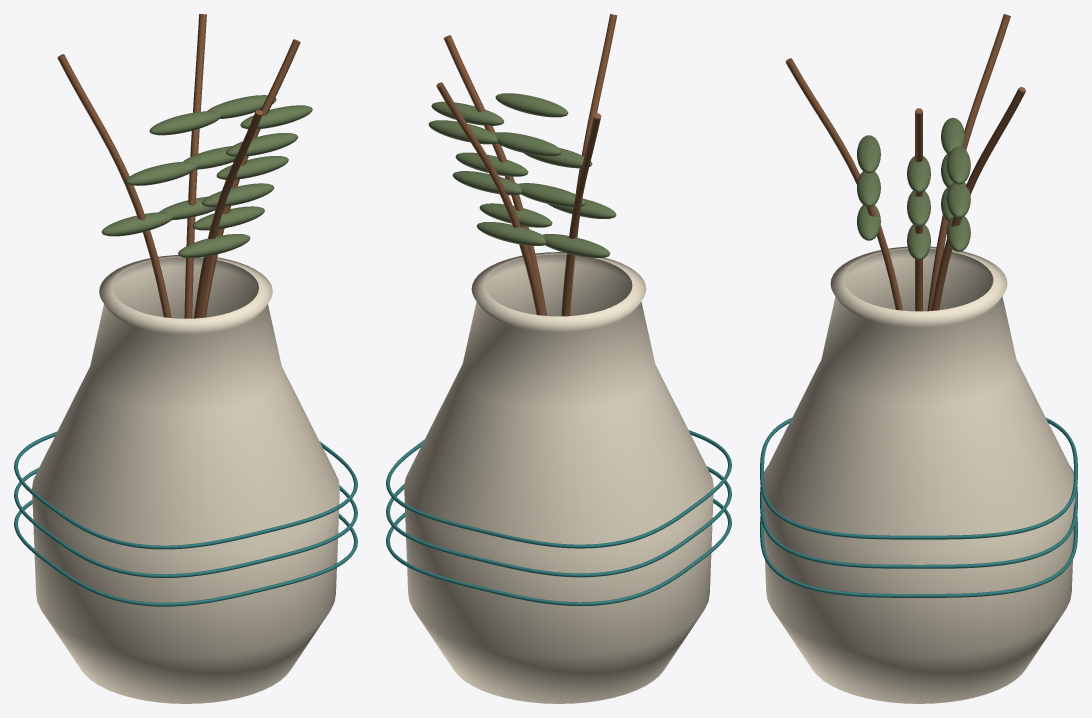
Rendered from OliveVase.fbx.
The picture shows the model from 3 angles, left to right: view 1: azimuth 30°, elevation 25°; view 2: azimuth 150°, elevation 25°; view 3: azimuth 270°, elevation 25°; orthographic projection.
Parts seen in each view (by area): view 1: Surface_KKTC_Ceramic, Surface_KKTC_Olive, Surface_KKTC_Wood, Surface_KKTC_CanvasTeal; view 2: Surface_KKTC_Ceramic, Surface_KKTC_Olive, Surface_KKTC_CanvasTeal, Surface_KKTC_Wood; view 3: Surface_KKTC_Ceramic, Surface_KKTC_Olive, Surface_KKTC_Wood, Surface_KKTC_CanvasTeal.
Part boxes in pixels (x1,y1,x2,y2): Surface_KKTC_Ceramic: [32, 255, 339, 703]; Surface_KKTC_Olive: [101, 95, 312, 257]; Surface_KKTC_Wood: [57, 14, 300, 318]; Surface_KKTC_CanvasTeal: [14, 431, 357, 606]; Surface_KKTC_Ceramic: [404, 252, 713, 703]; Surface_KKTC_Olive: [428, 93, 616, 257]; Surface_KKTC_CanvasTeal: [386, 430, 731, 605]; Surface_KKTC_Wood: [436, 14, 617, 316]; Surface_KKTC_Ceramic: [762, 246, 1075, 703]; Surface_KKTC_Olive: [857, 118, 970, 259]; Surface_KKTC_Wood: [785, 14, 1025, 311]; Surface_KKTC_CanvasTeal: [760, 418, 1077, 597].
Bounding box in the file's own units: 15.8 × 33.08 × 15.8.
